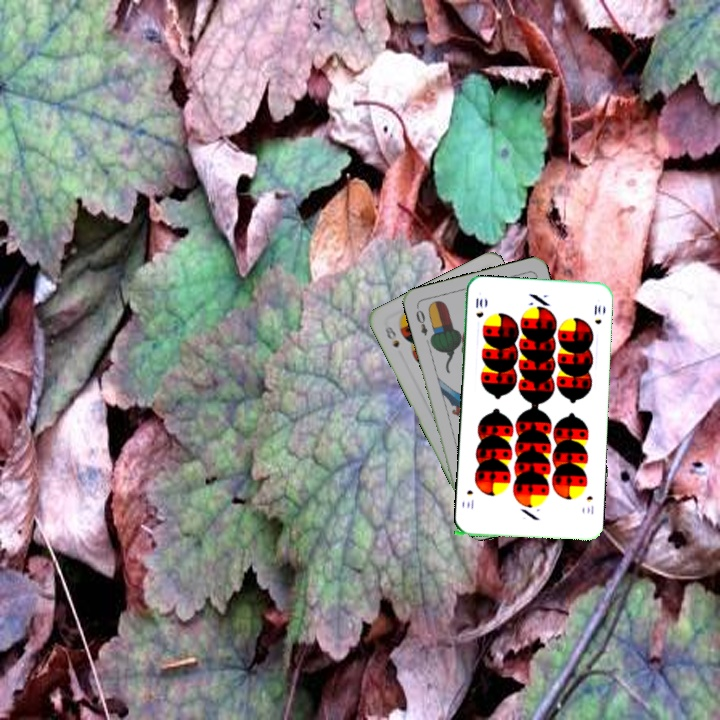EO: (412, 303, 430, 338)
S10: (472, 294, 487, 320), (582, 492, 596, 517)
S8: (381, 323, 402, 350)
